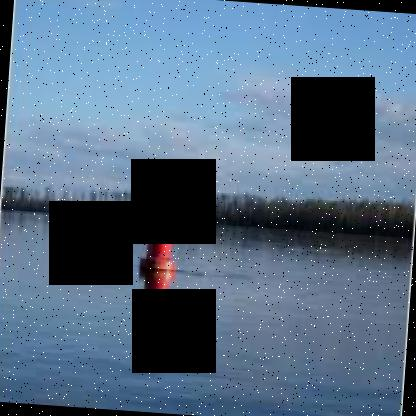Buoy: (136, 198, 184, 276)
